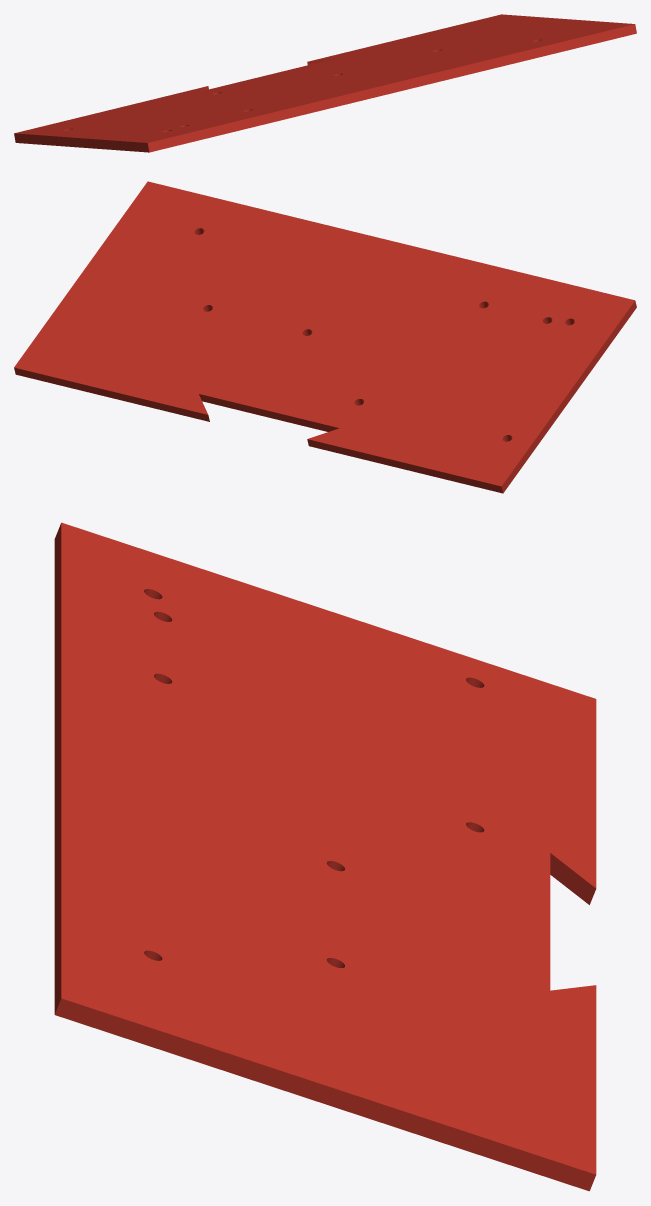
Rendered from EBoxNewAsm_stp_1_Midplane_stp_1_solid2.obj.
3 renders of one model, top to bottom at view 1: azimuth 30°, elevation 25°; view 2: azimuth 150°, elevation 25°; view 3: azimuth 270°, elevation 25°, orthographic. The views are drawn at different scales.
Parts seen in each view (by area): view 1: mesh9843, mesh9820, mesh9821; view 2: mesh9843, mesh9825, mesh9822, mesh9821, mesh9824; view 3: mesh9843, mesh9819, mesh9820, mesh9826.
Part boxes in pixels (x1,y1,x2,y2): mesh9843: (15,14,634,142); mesh9820: (148,24,636,152); mesh9821: (14,133,149,152); mesh9843: (14,181,634,486); mesh9825: (307,439,502,493); mesh9822: (14,367,209,421); mesh9821: (501,301,636,493); mesh9824: (199,394,338,431); mesh9843: (61,522,596,1174); mesh9819: (55,998,595,1191); mesh9820: (54,523,61,1014); mesh9826: (550,853,595,904).
Bounding box in the file's own units: 0.2303 × 0.0436 × 0.1108.
